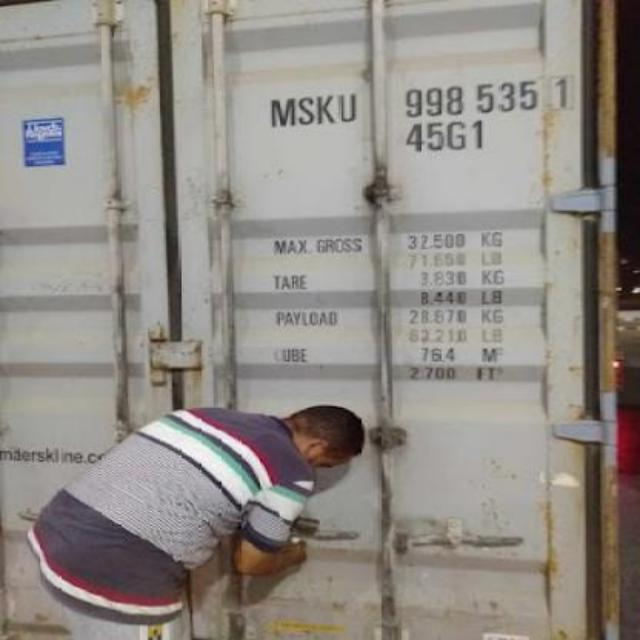1: (554, 72, 570, 112)
3: (494, 76, 518, 114)
5: (516, 76, 540, 118), (474, 74, 496, 116)
8: (442, 84, 464, 116)
9: (422, 81, 442, 122), (401, 83, 422, 121)
K: (312, 89, 334, 127)
M: (268, 93, 294, 129)
S: (292, 89, 314, 127)
U: (334, 86, 358, 126)
